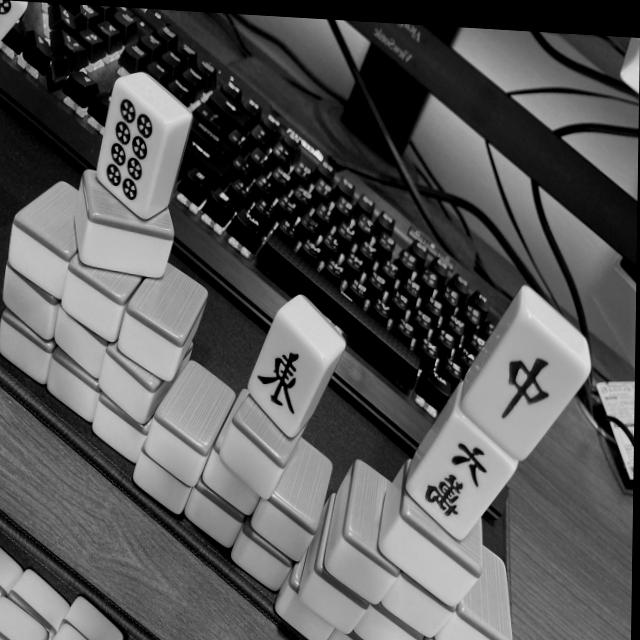east: (239, 316, 333, 438)
m6: (399, 407, 515, 546)
t8: (95, 86, 167, 215)
zhong: (452, 301, 590, 469)
